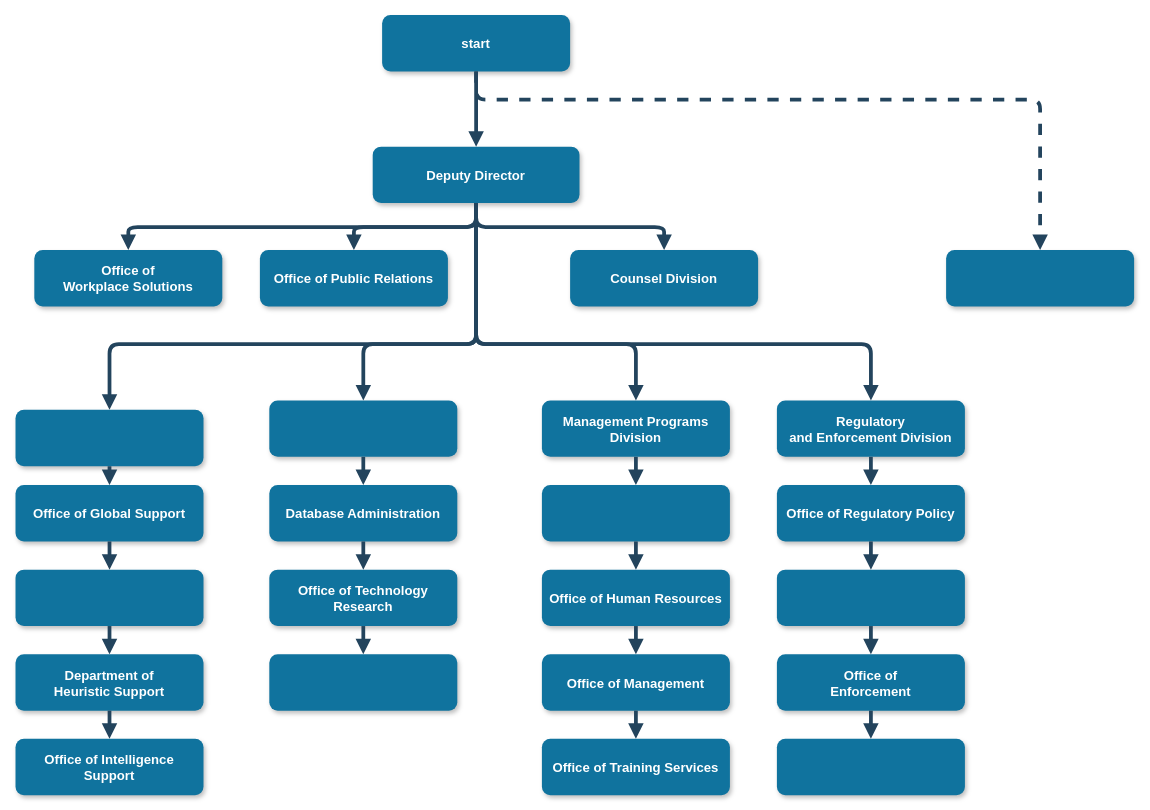
Image size: 1150x810. Some labels were removed from this diagram. Each missing label, with the centre of its shape:
"Analysis Division" belongs at (110,439).
"Cooperation" belongs at (1040,279).
"IT Division" belongs at (363,429).
"Office Compliance" belongs at (871,598).
"Office of Backtrack Analysis" belongs at (110,598).
"Office of Data Services" belongs at (363,683).
"Office of Financial Management" belongs at (636,514).
"Office of Regulatory Support" belongs at (871,768).
